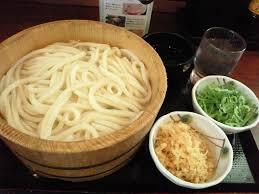kamaage: (1, 17, 171, 188)
